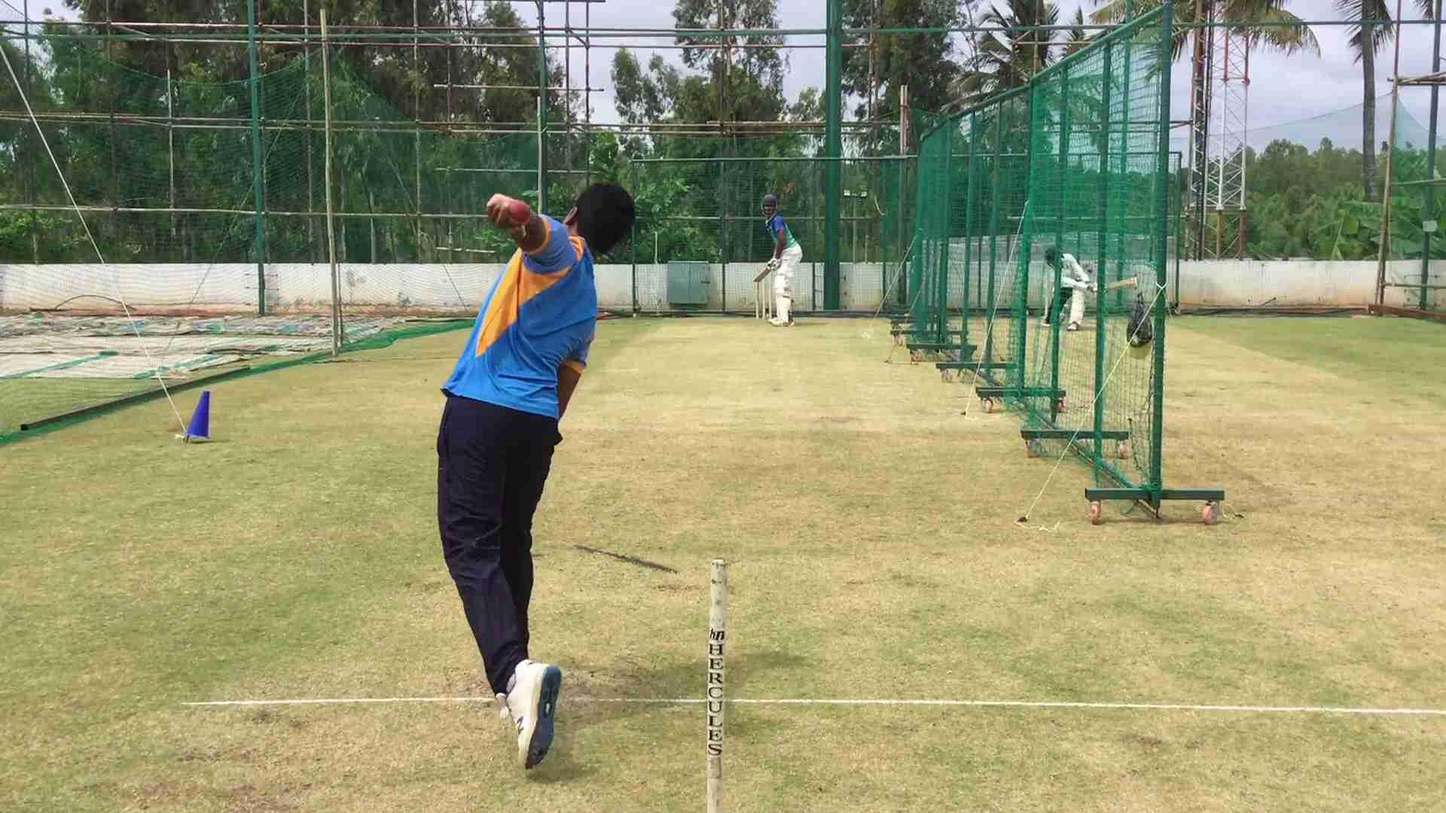batsman: (757, 188, 807, 332)
